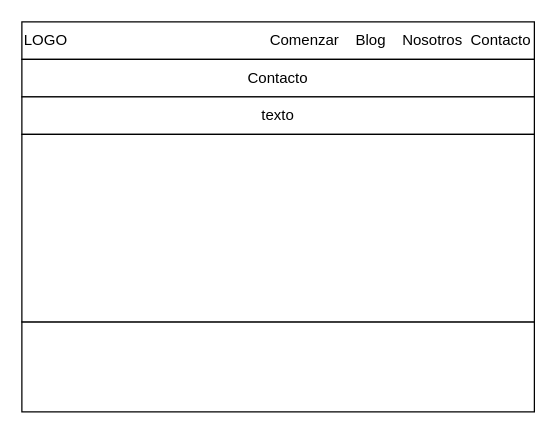
This 556x434 diagram has some shape labels left out. The box of each missing label's shape, as (x1, y1, x2, y2) in pixels:
Formulario: (21, 133, 534, 322)
Pie de pagina: (21, 321, 534, 412)
